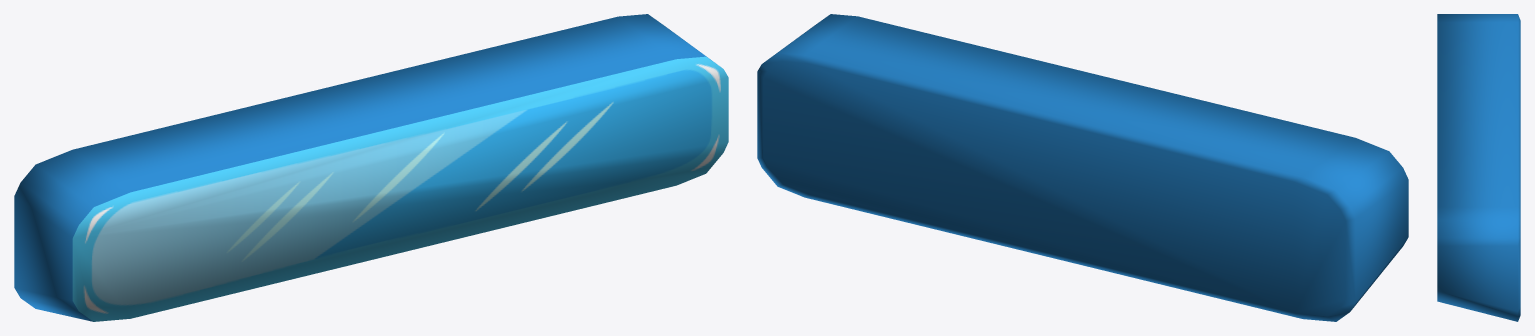
File: Ice Bar.fbx
3 renders of one model, left to right at view 1: azimuth 30°, elevation 25°; view 2: azimuth 150°, elevation 25°; view 3: azimuth 270°, elevation 25°, orthographic. The views are drawn at different scales.
Parts seen in each view (by area): view 1: Cube.001; view 2: Cube.001; view 3: Cube.001.
Part boxes in pixels (x1,y1,x2,y2): Cube.001: (14,14,728,321); Cube.001: (757,14,1408,321); Cube.001: (1437,14,1520,321).
Bounding box in the file's own units: 11.53 × 2.62 × 1.83.
